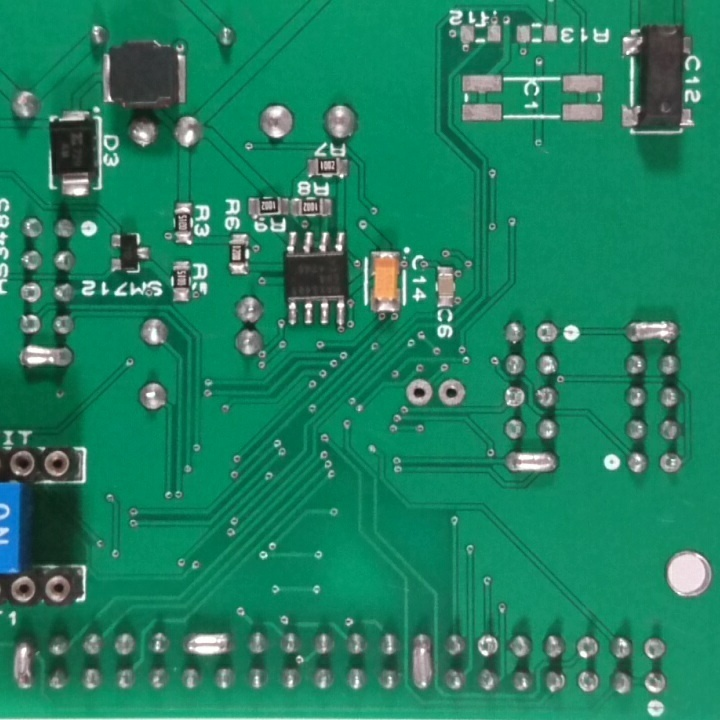F: (433, 377, 470, 410), (472, 632, 504, 662), (575, 665, 602, 699), (404, 378, 433, 409), (501, 384, 529, 414), (642, 668, 670, 698), (16, 278, 44, 306), (656, 449, 684, 477), (536, 322, 561, 349)
P: (13, 340, 77, 374), (407, 629, 439, 696), (620, 316, 682, 348), (501, 447, 562, 479), (10, 634, 39, 696), (180, 627, 233, 660)
